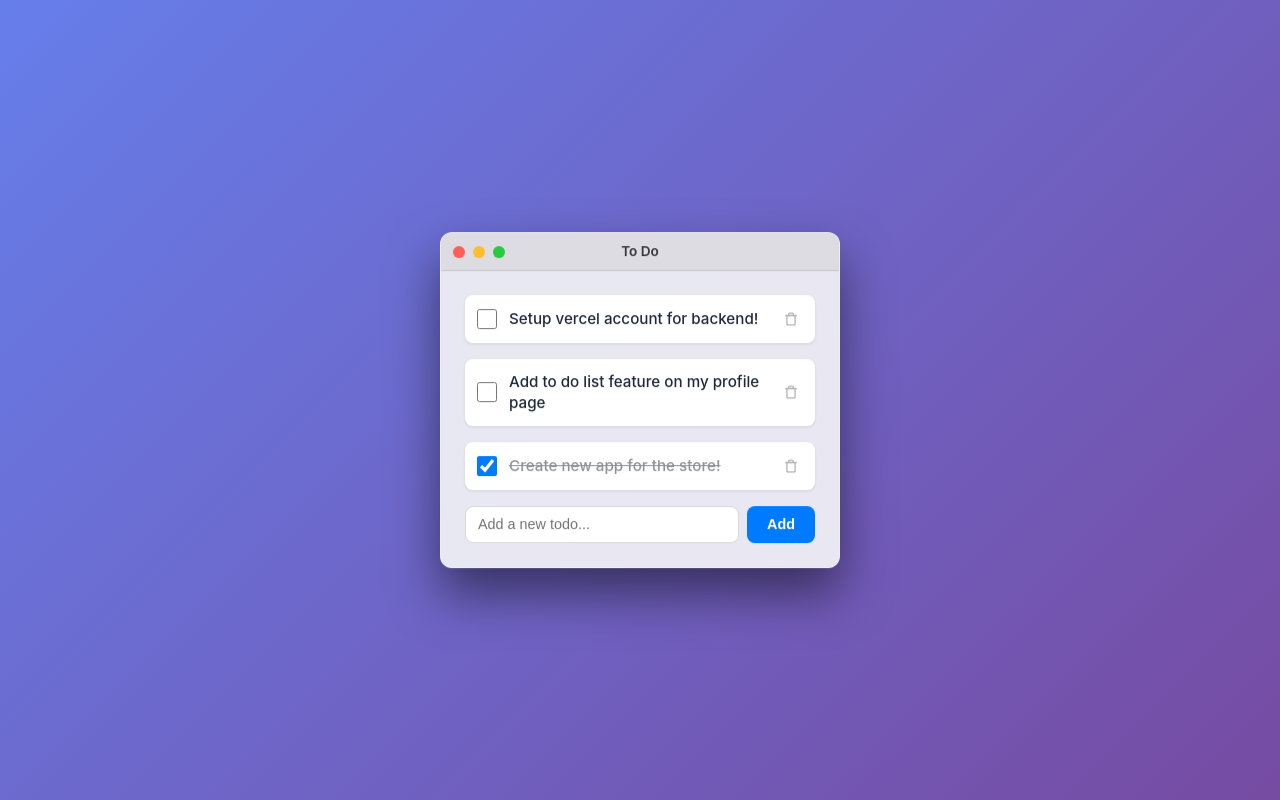
Test case: TodoList › save button › appears after toggling a checkbox
Click the checkbox next to "Setup vercel account for backend!". click: {"x": 487, "y": 319}
box: top-left (477, 309), bottom-right (497, 329)
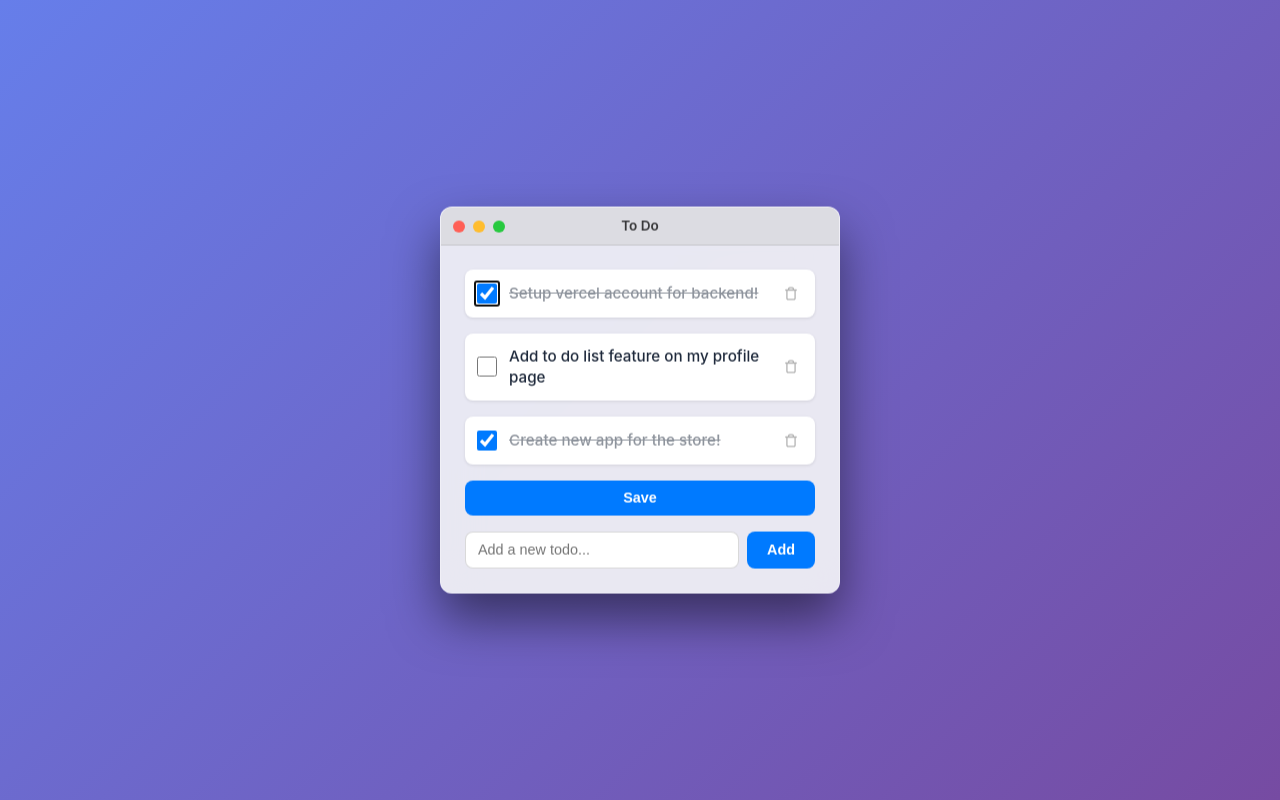
Result: the button "Save" is shown at top-left (465, 480), bottom-right (815, 515)
